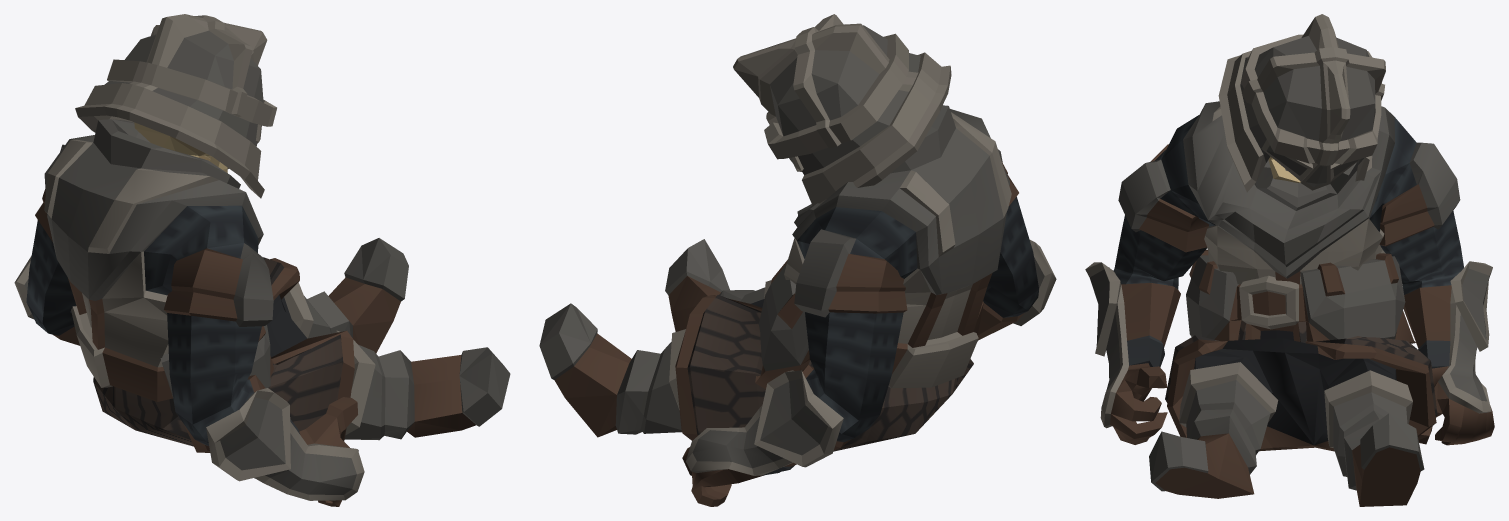
File: forge_dead_dwarf.gltf
The picture shows the model from 3 angles, left to right: view 1: azimuth 30°, elevation 25°; view 2: azimuth 150°, elevation 25°; view 3: azimuth 270°, elevation 25°; orthographic projection. The views are drawn at different scales.
Visible parts, largest first — view 1: forge_dead_dwarf; view 2: forge_dead_dwarf; view 3: forge_dead_dwarf.
Boxes of the visible parts, bbox=[...] form: forge_dead_dwarf: bbox=[14, 14, 510, 506]; forge_dead_dwarf: bbox=[539, 14, 1056, 506]; forge_dead_dwarf: bbox=[1085, 14, 1494, 506].
Size of the model in its own units: 1.35 by 1.45 by 1.34.
1 material, 1 textured.
